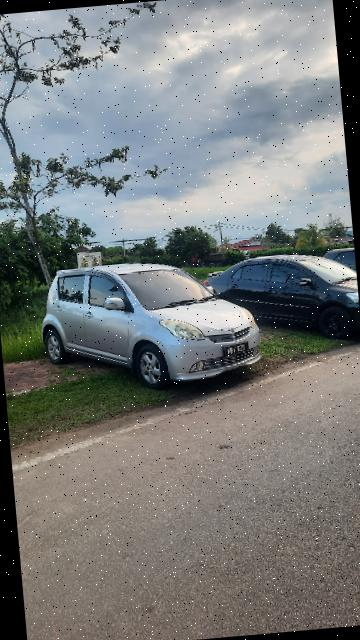License_Plate: (222, 341, 253, 360)
car: (41, 250, 264, 397)
